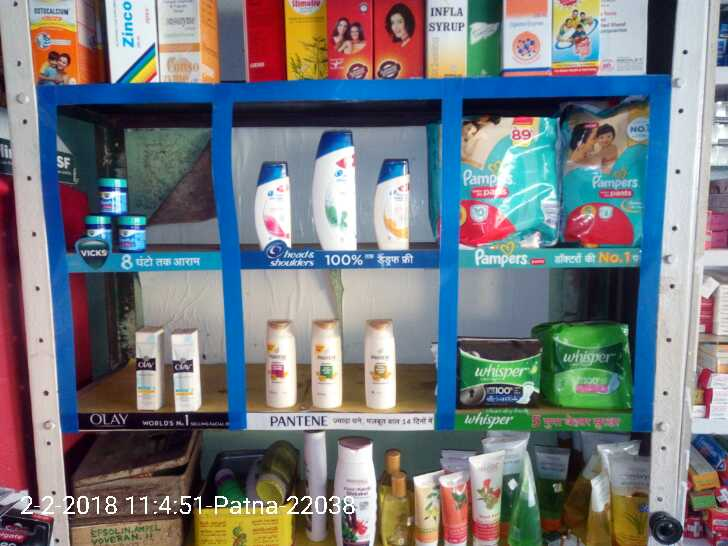beauty: (306, 128, 374, 253), (244, 155, 301, 250), (358, 315, 407, 416), (258, 316, 304, 415), (372, 161, 418, 249), (309, 318, 354, 406), (130, 329, 168, 406), (169, 329, 206, 407)
pharmacy: (459, 116, 565, 254), (560, 112, 647, 248), (529, 322, 630, 415), (455, 339, 537, 412), (112, 213, 151, 257), (94, 174, 132, 218), (80, 215, 110, 250)
